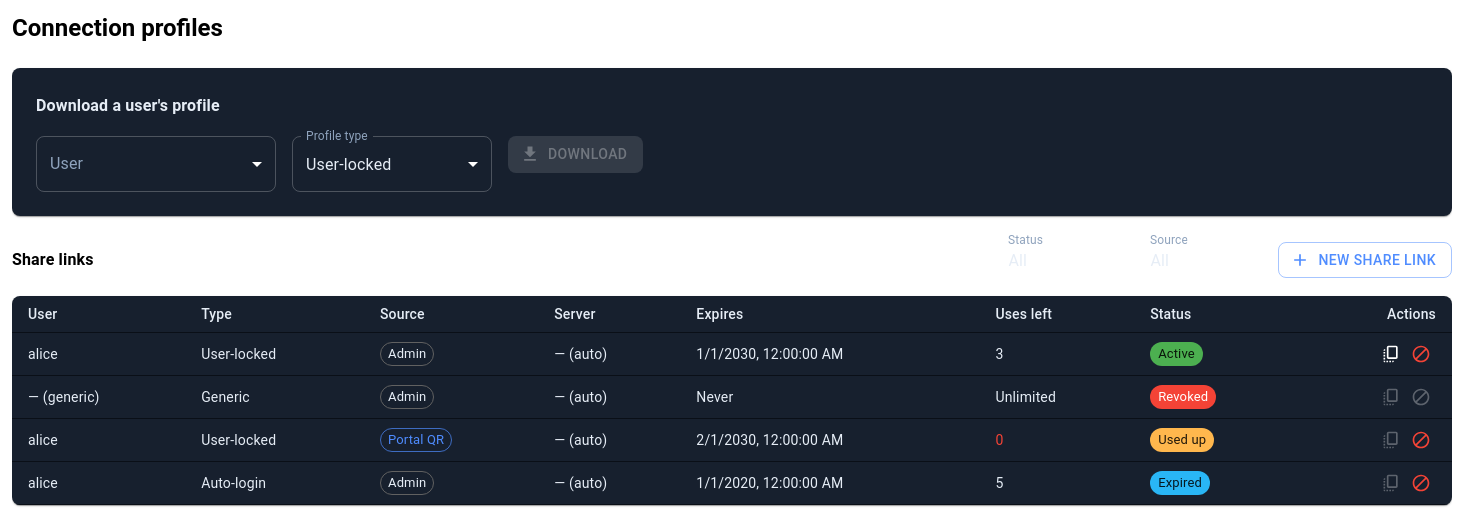
ProfilesPage › filters tokens by status
Expected: the text "— (generic)" is shown, [12,376,185,418]
Expected: the number of rows "alice" is 3, [12,332,1452,376]; [12,418,1452,462]; [12,462,1452,504]
Step 1. Click the dropdown named "status" → (1018,260), box [1008,250,1027,270]
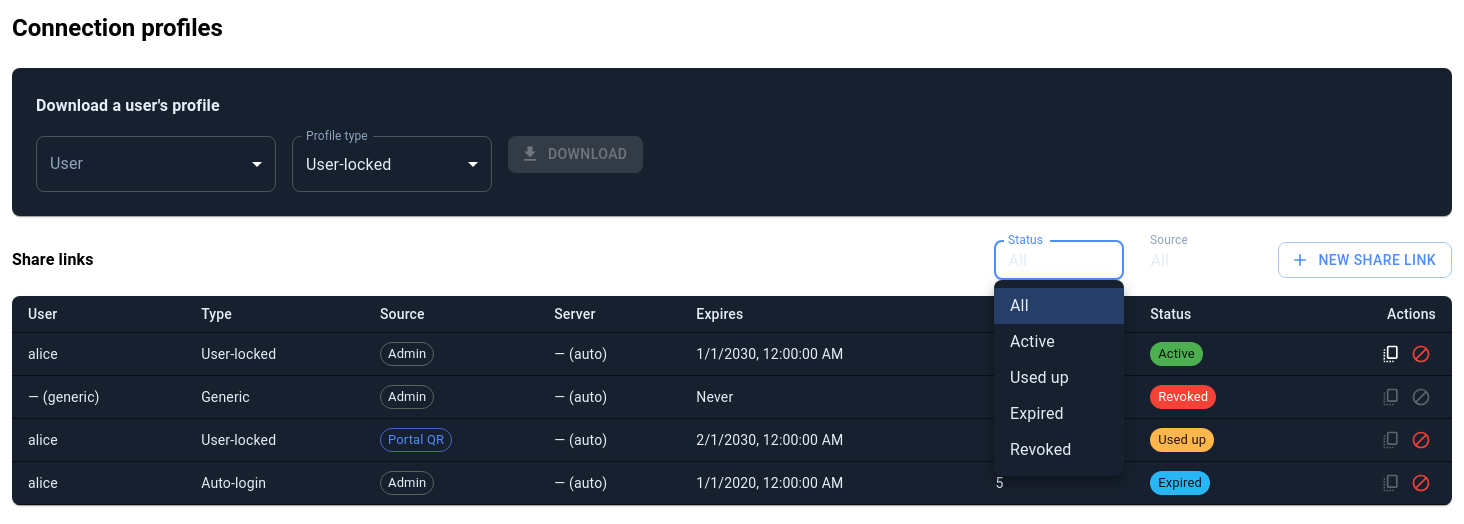
Step 2. Click the option "Active" → (1032,342), box [1010,332,1055,351]
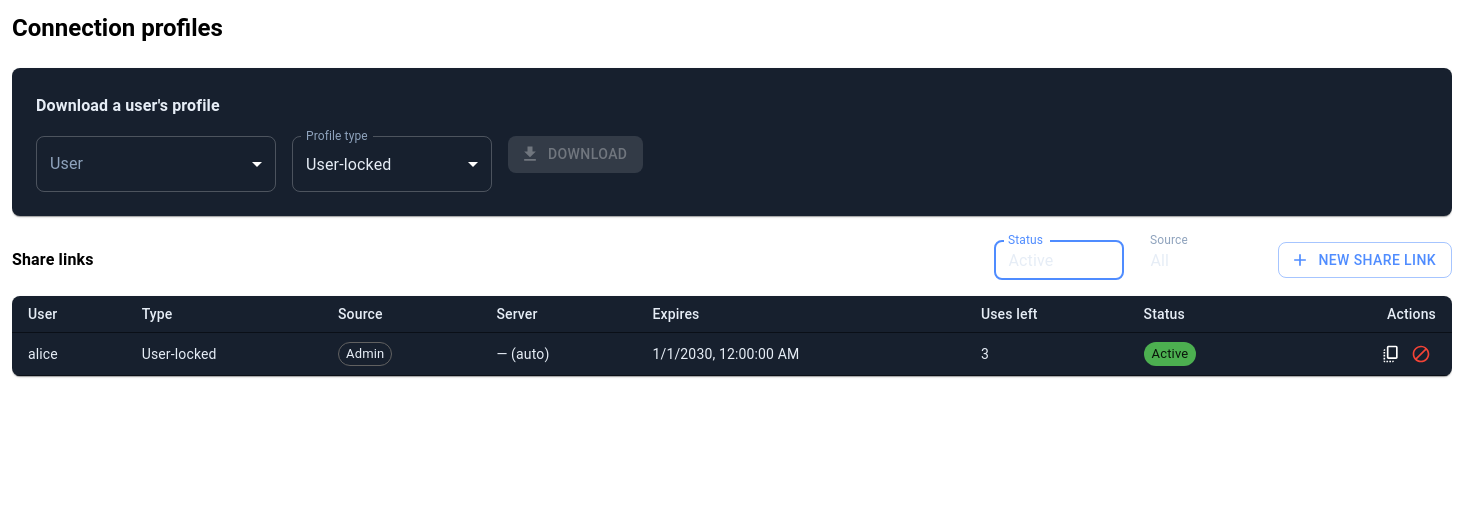
Expected: the text "Active" is shown, [1152,346,1188,361]
Expected: the number of rows "alice" is 1, [12,332,1452,376]
